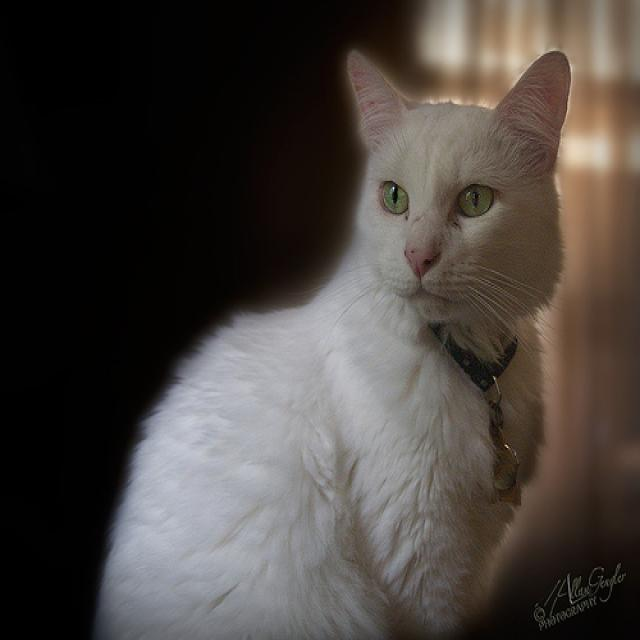cat: (93, 46, 573, 639)
